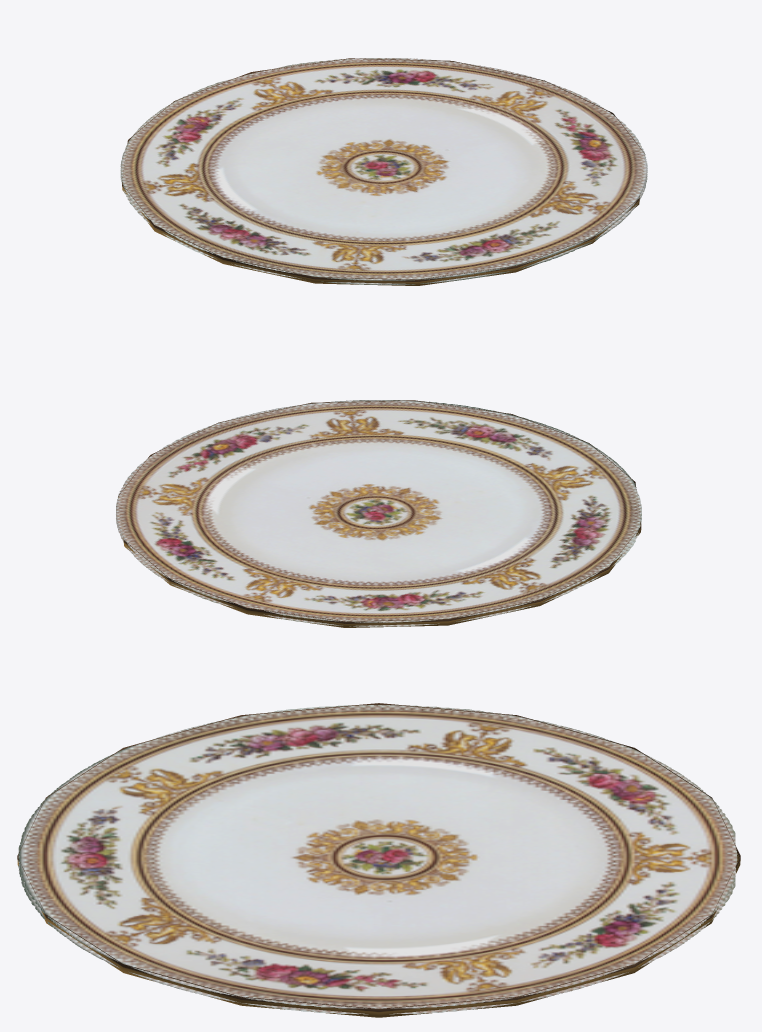
File: Plate_Dinner.fbx
The picture shows the model from 3 angles, top to bottom: view 1: azimuth 30°, elevation 25°; view 2: azimuth 150°, elevation 25°; view 3: azimuth 270°, elevation 25°; orthographic projection. The views are drawn at different scales.
Visible parts, largest first — view 1: DinnerPlate_LOD0; view 2: DinnerPlate_LOD0; view 3: DinnerPlate_LOD0.
Boxes of the visible parts, x1,y1,x2,y2 form: DinnerPlate_LOD0: [120, 58, 647, 285]; DinnerPlate_LOD0: [116, 400, 641, 627]; DinnerPlate_LOD0: [17, 703, 740, 1017].
Size of what is drawn, in the model's own units: 95.87 by 7.1 by 95.87.
